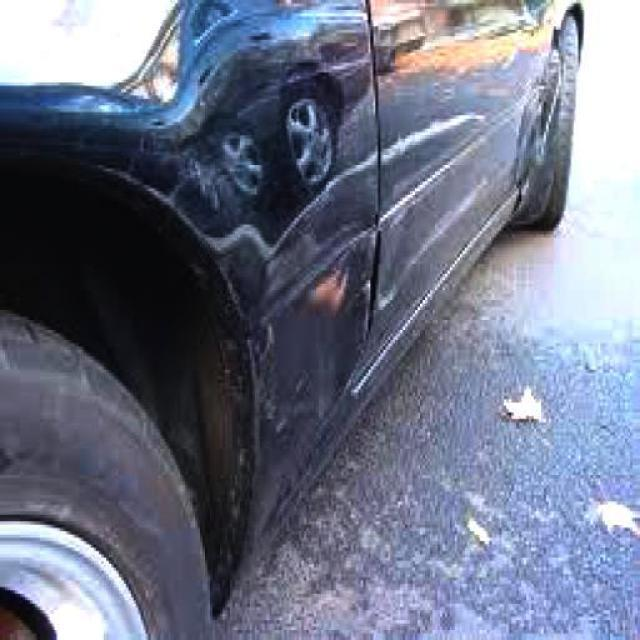car damage: (260, 192, 393, 417)
